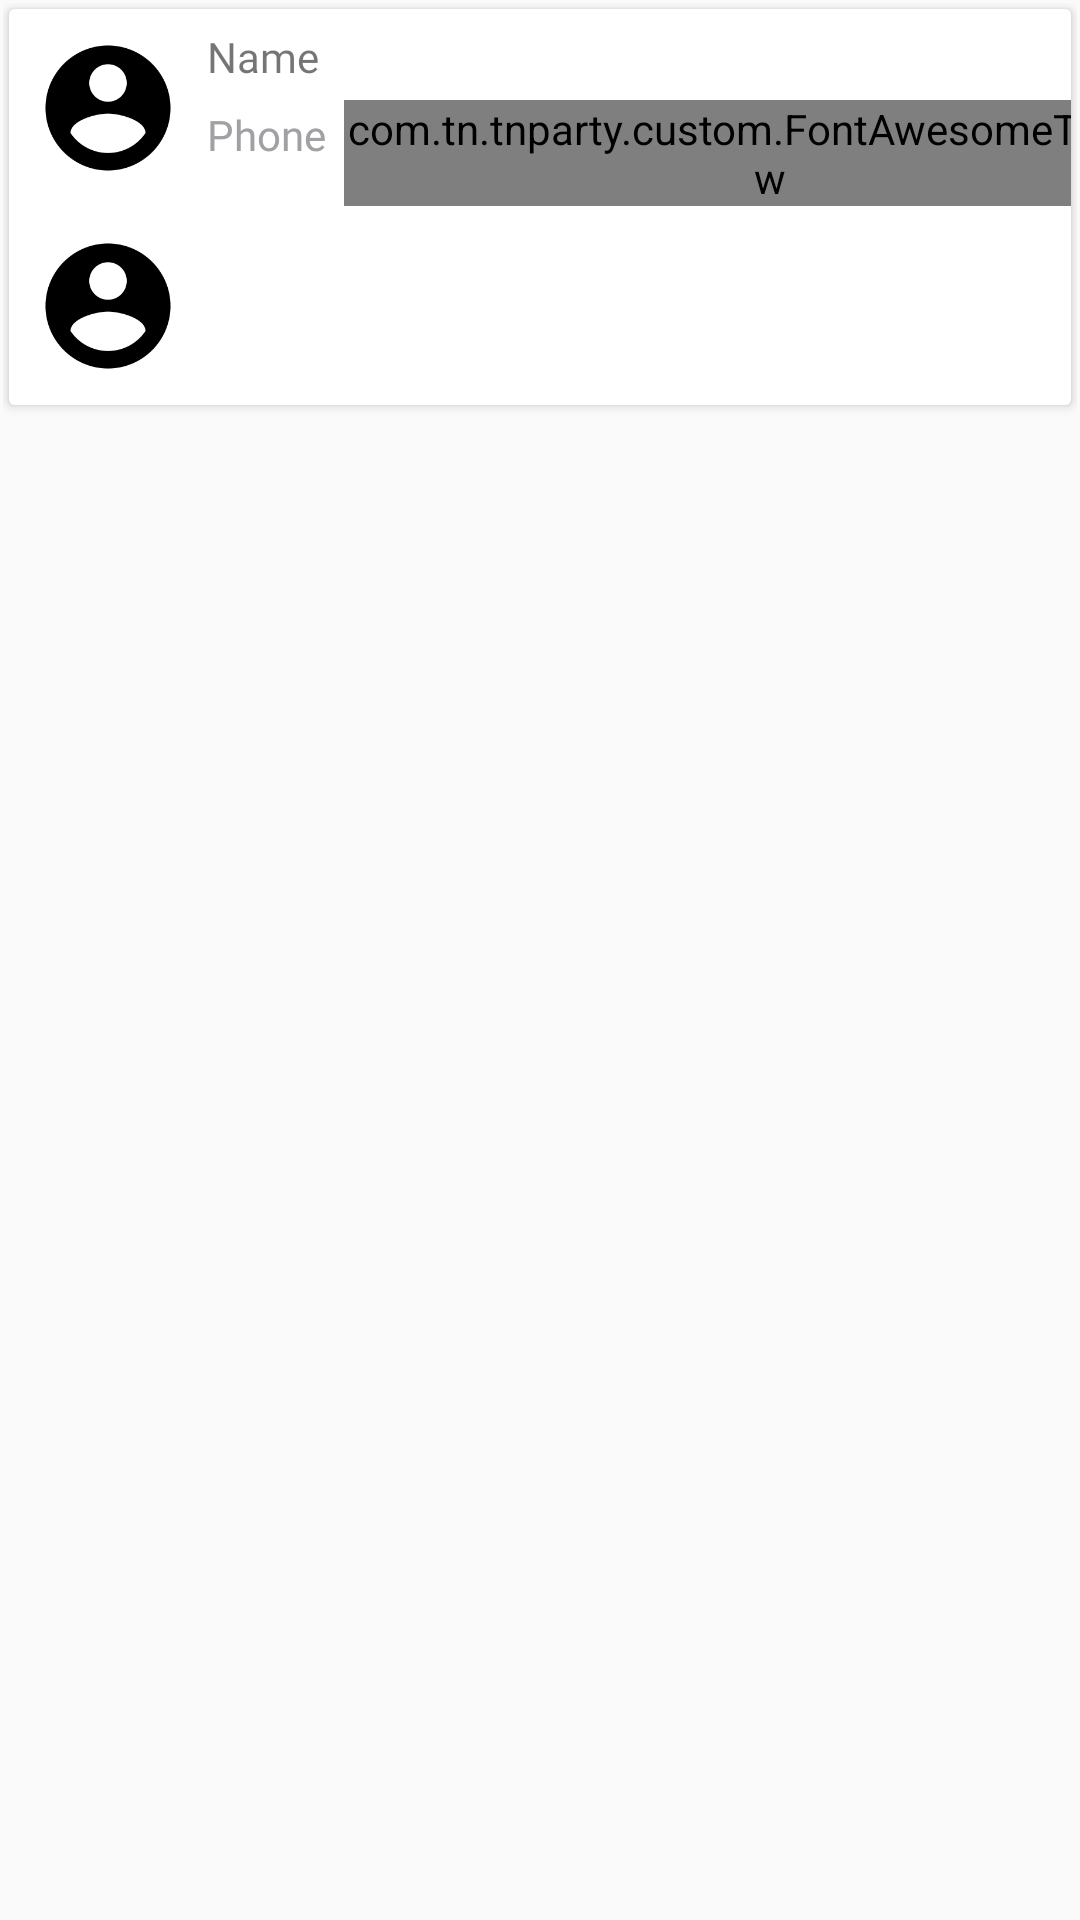

Icons on this 1080w x 1920h Android screen, each with the point to tap as point (x, y):
user: point (108, 108), point (108, 306)
